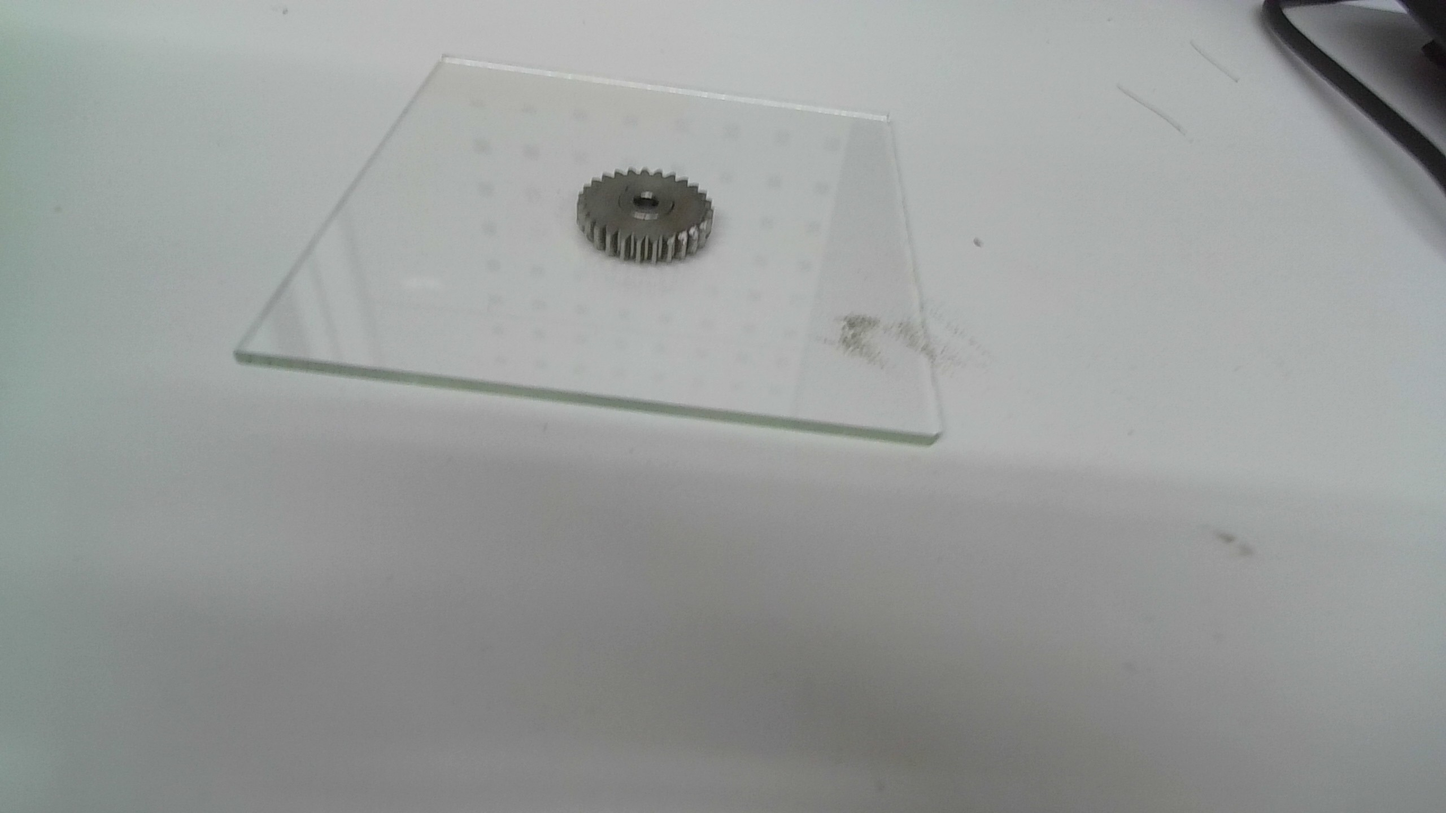gear: (573, 165, 716, 266)
